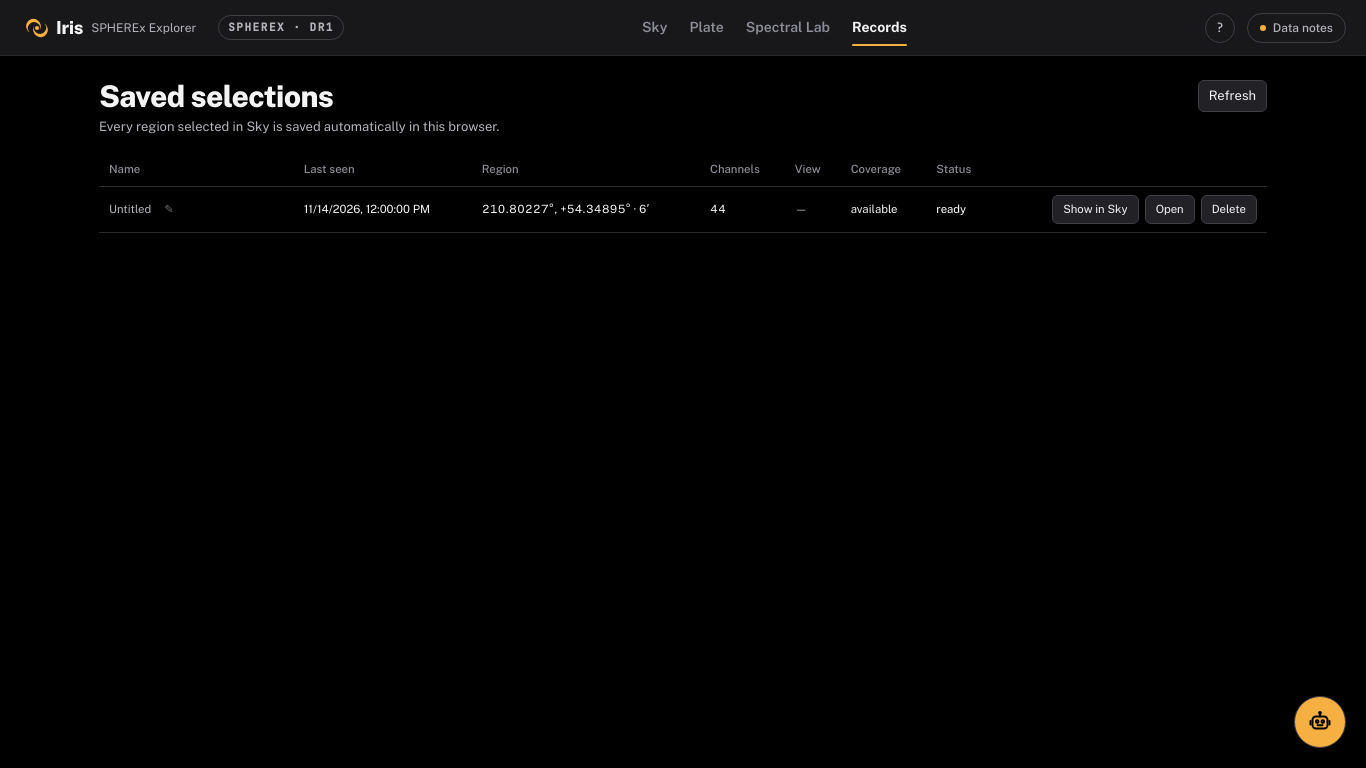
Test: App workspace switch › names a selection from Records and shows the name
Check: the button "Untitled" is shown, box [109, 201, 151, 218]
Click the button named "Rename selection".
click(169, 209)  # box [157, 198, 181, 221]
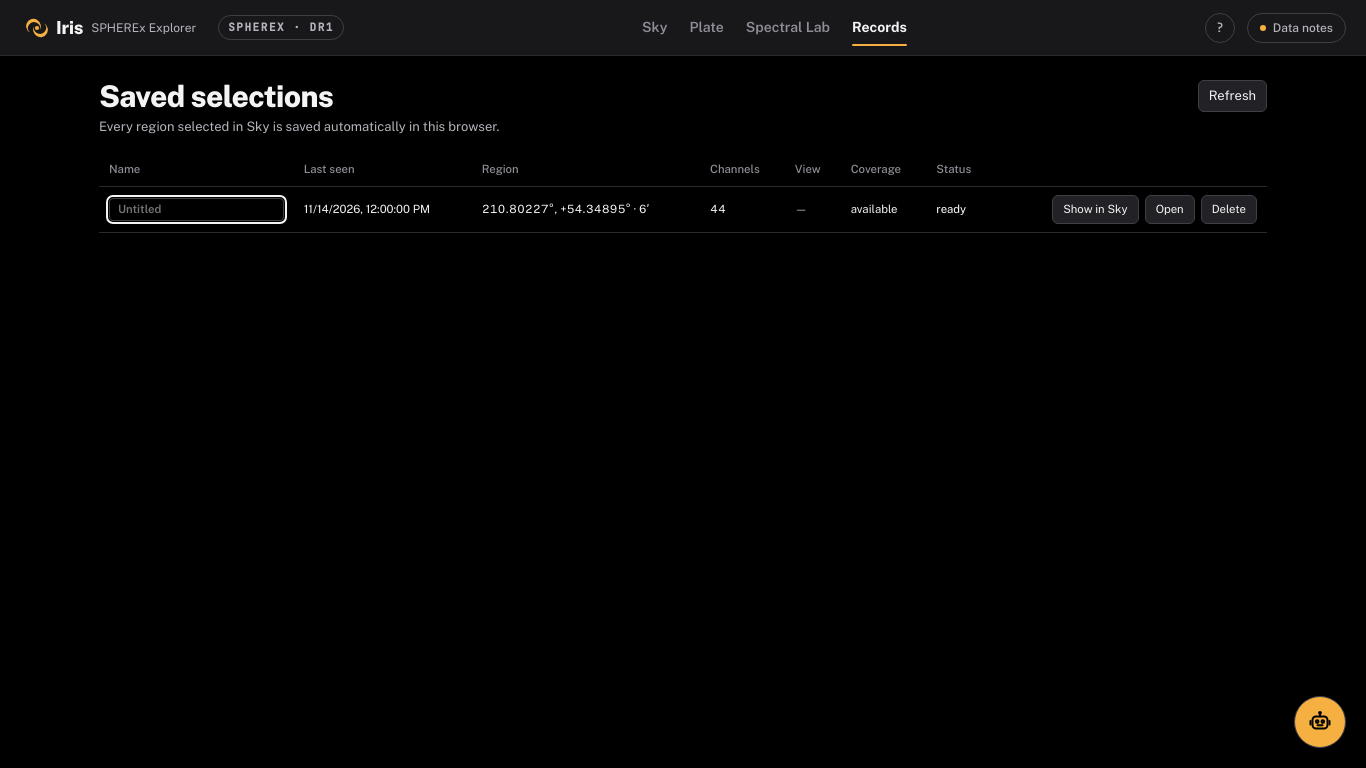
Type "  M101 core " into the field named "Selection name".
click(196, 209); type("  M101 core ")  # box [109, 198, 284, 221]
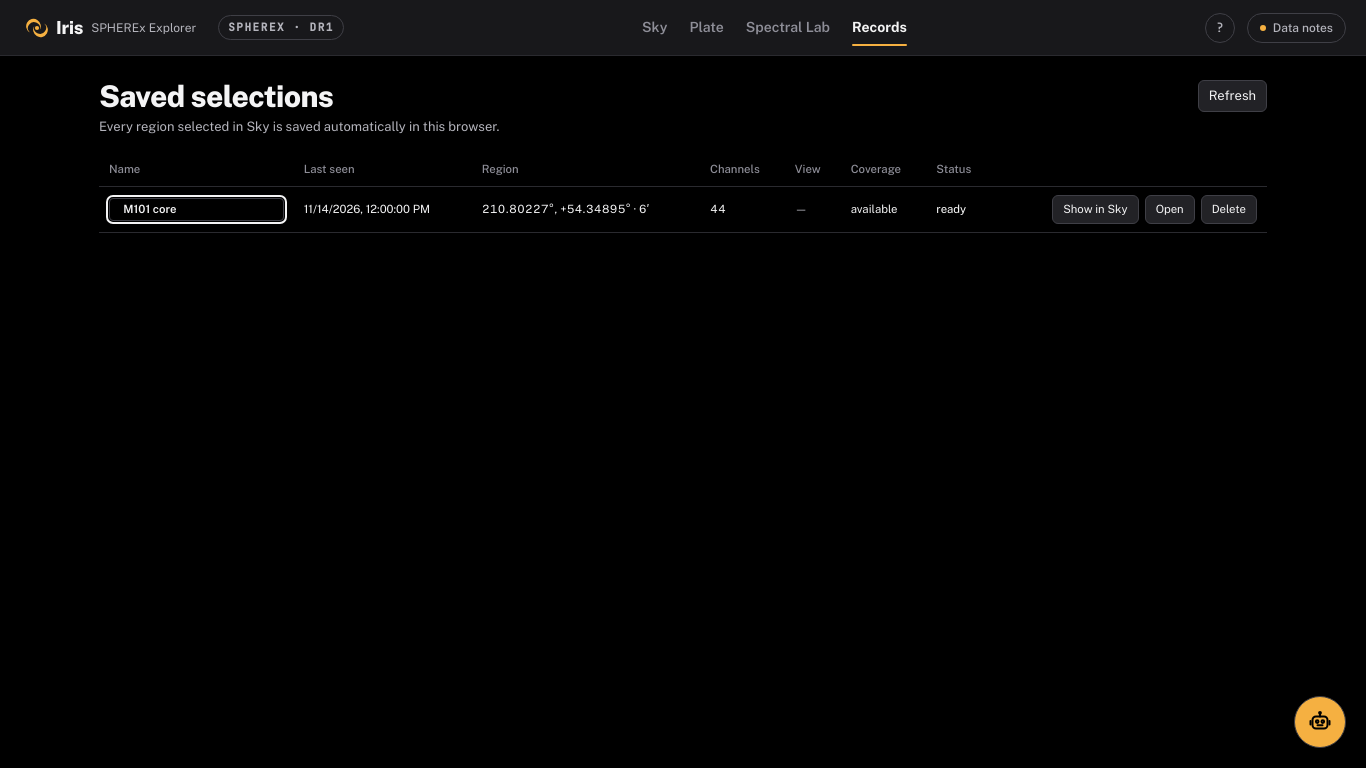
Press Enter in the field named "Selection name", box [109, 198, 284, 221]
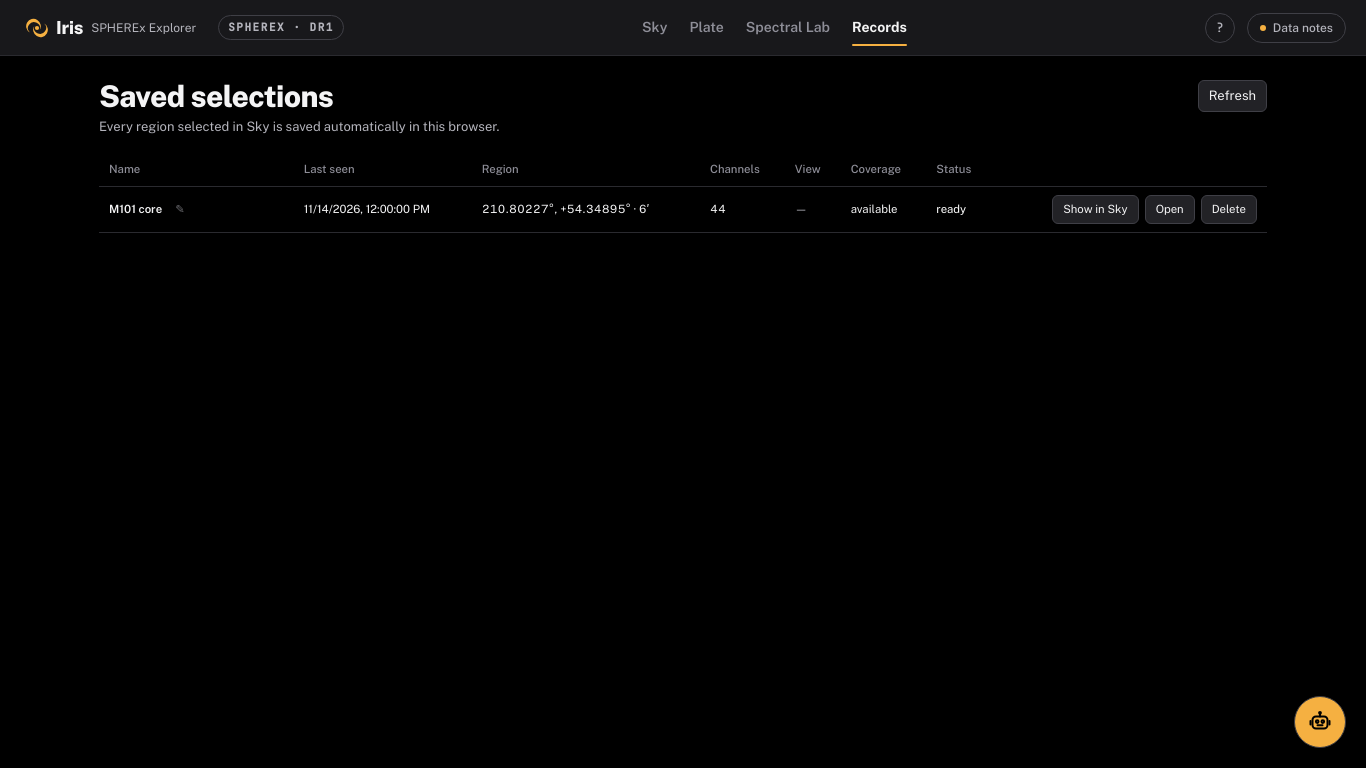
Check: the button "M101 core" is shown, box [109, 201, 162, 218]
